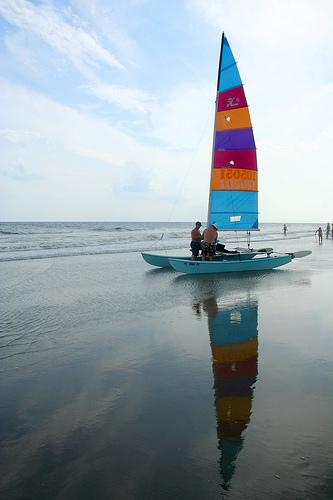Ship: (141, 33, 297, 273)
